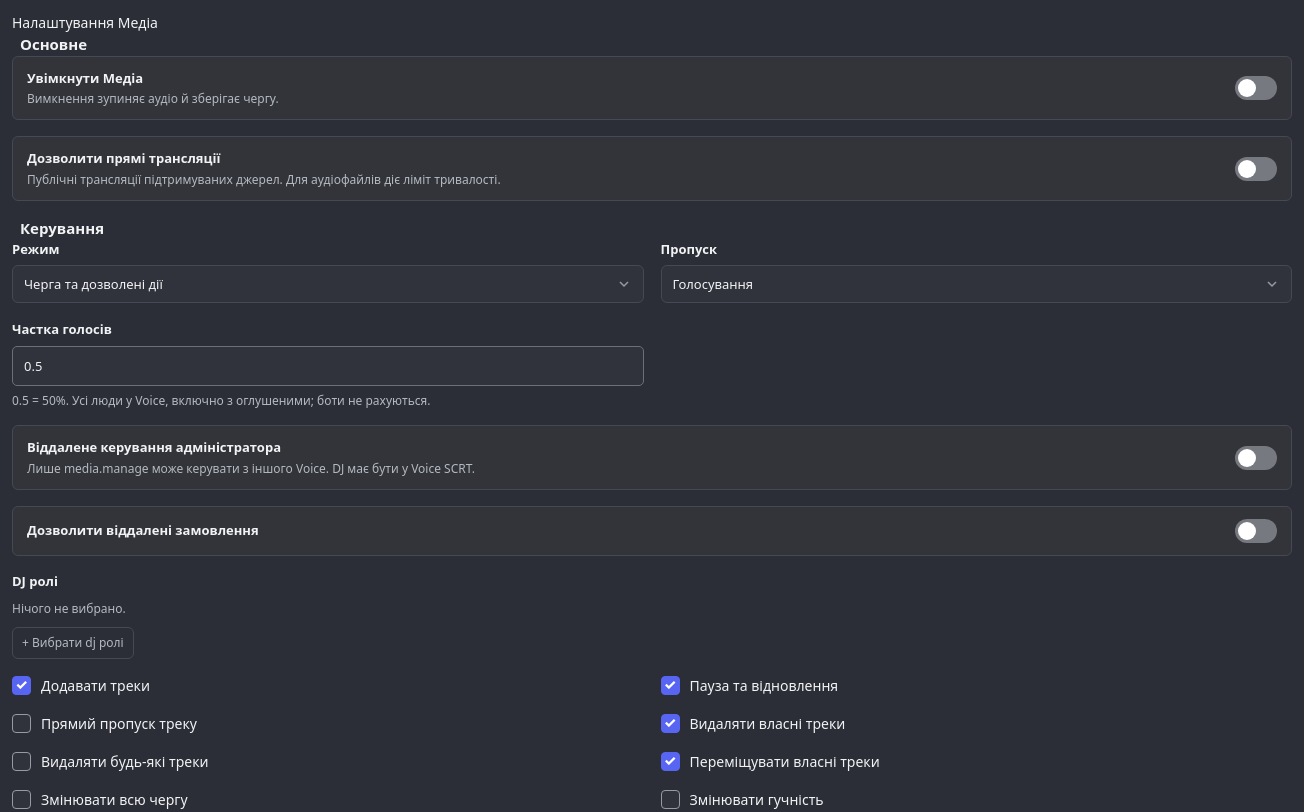
Media settings banner save › shows generic feedback for unexpected errors without exposing internal details
Click the switch labelled "Увімкнути Медіа Вимкнення зупиняє аудіо й зберігає чергу." at (1256,88), box [1235, 76, 1277, 100]
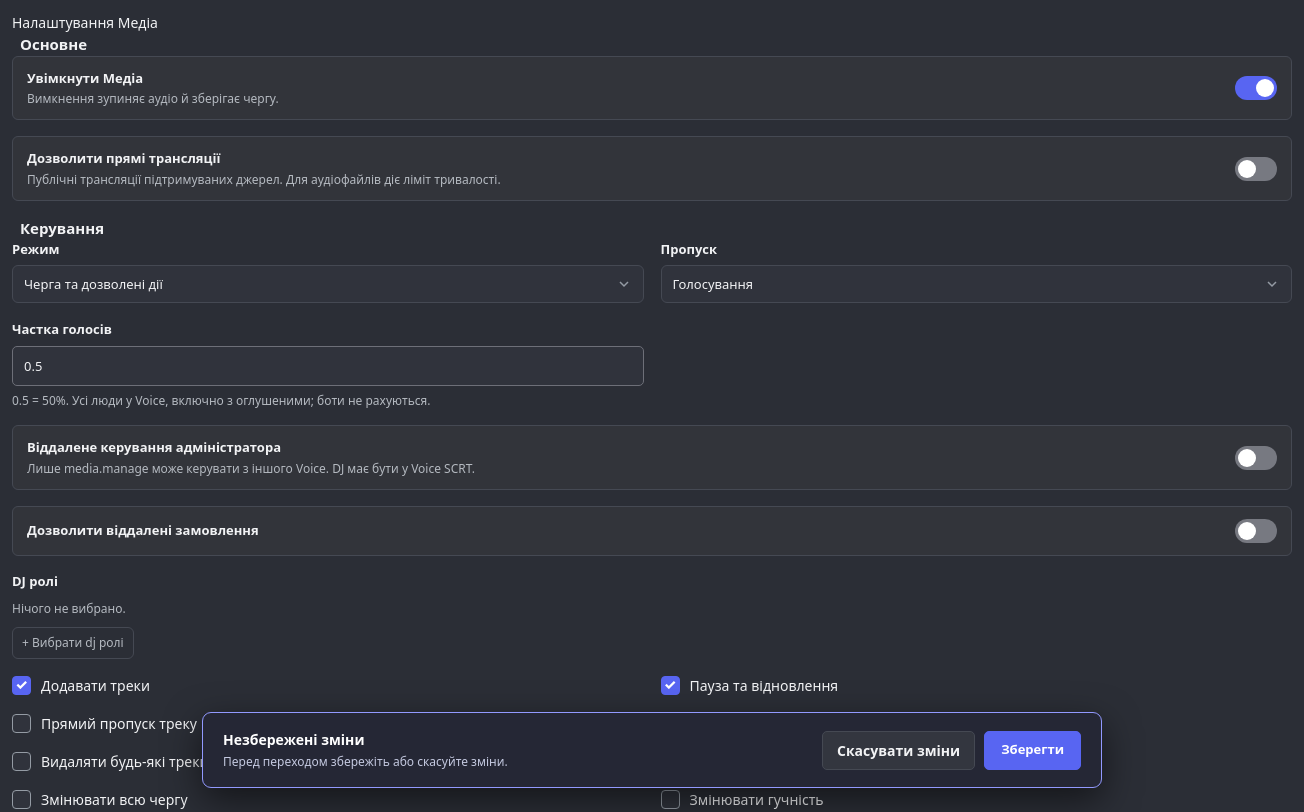
Click the button "Зберегти" at (1033,750), box [984, 730, 1081, 770]
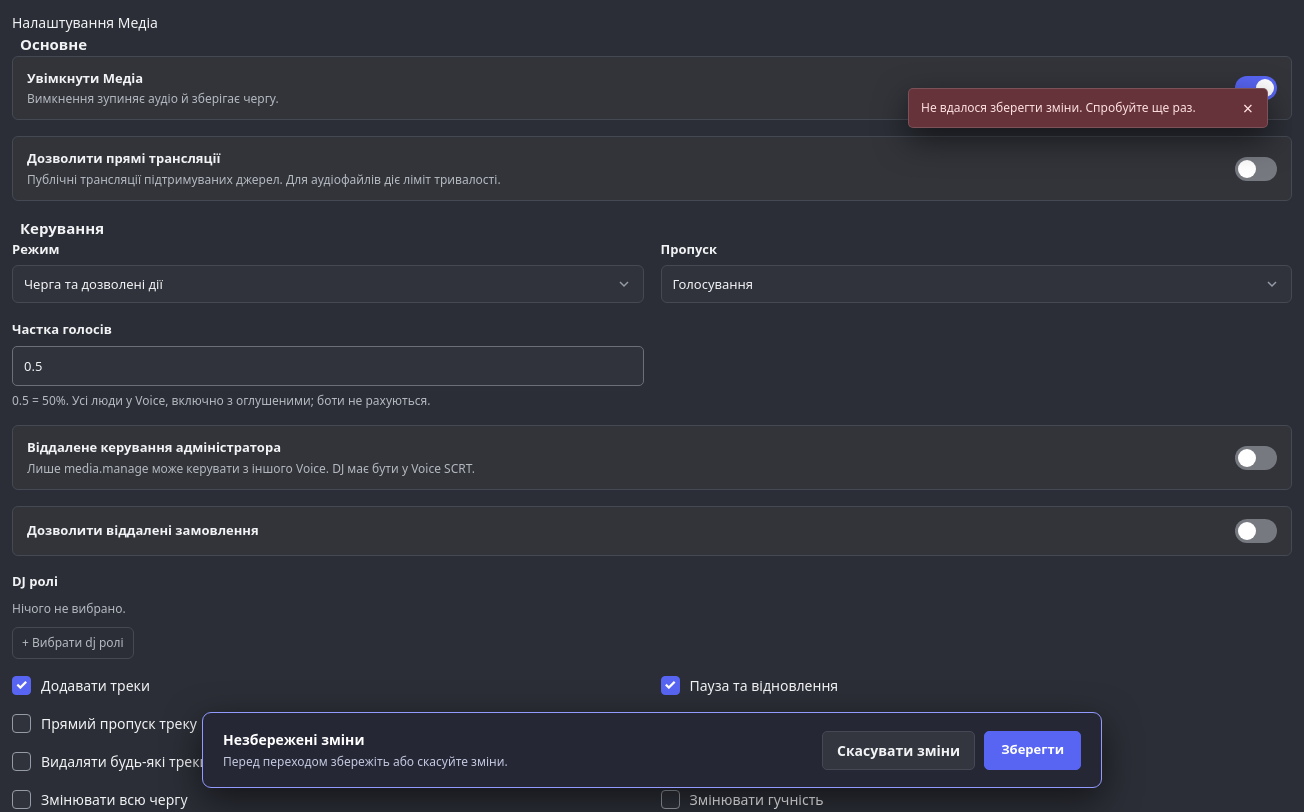
Check: the text "Незбережені зміни" is shown, box [223, 730, 364, 749]
Check: the message "Не вдалося зберегти зміни. Спробуйте ще раз. ×" is shown, box [908, 88, 1268, 128]
